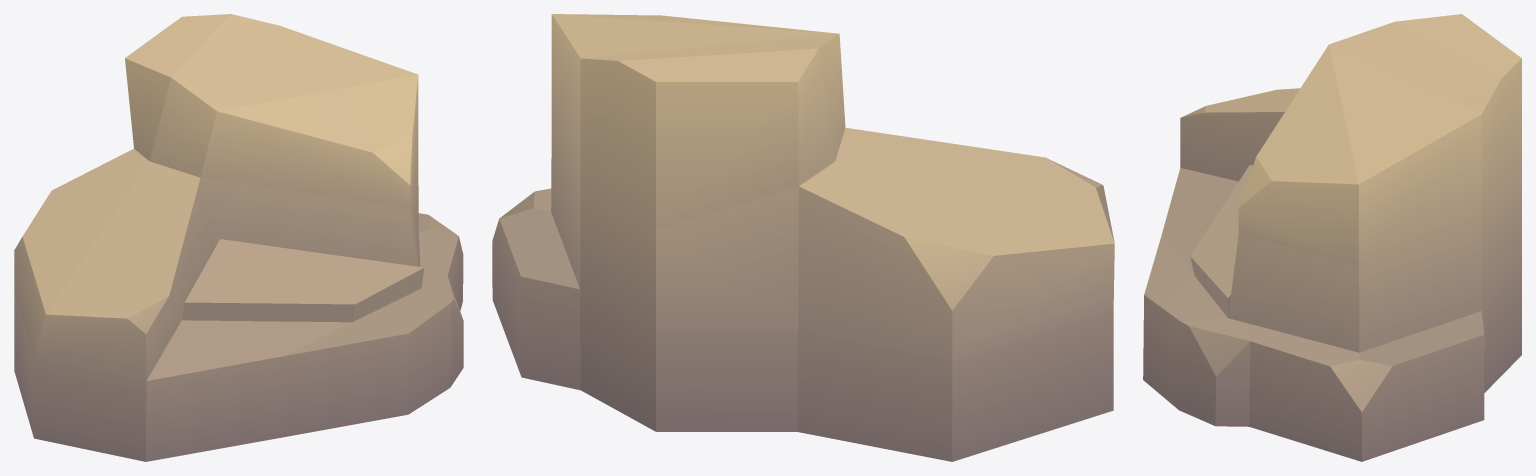
The model's file is Rock1.glb.
The picture shows the model from 3 angles, left to right: view 1: azimuth 30°, elevation 25°; view 2: azimuth 150°, elevation 25°; view 3: azimuth 270°, elevation 25°; orthographic projection. The views are drawn at different scales.
Visible parts, largest first — view 1: Rock1; view 2: Rock1; view 3: Rock1.
Boxes of the visible parts, x1=… form: Rock1: x1=14, y1=14, x2=463, y2=461; Rock1: x1=492, y1=14, x2=1114, y2=461; Rock1: x1=1143, y1=14, x2=1521, y2=461.
Bounding box in the file's own units: 6.01 × 3.47 × 4.01.
1 material, 1 textured.
